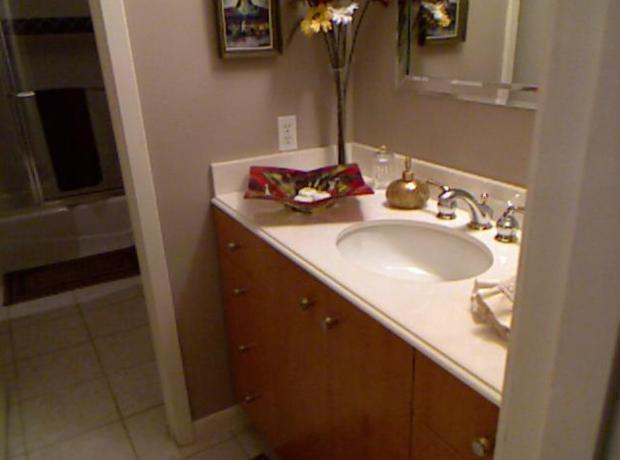Ducha: (0, 4, 166, 300)
Lavamanos: (324, 181, 515, 306)
